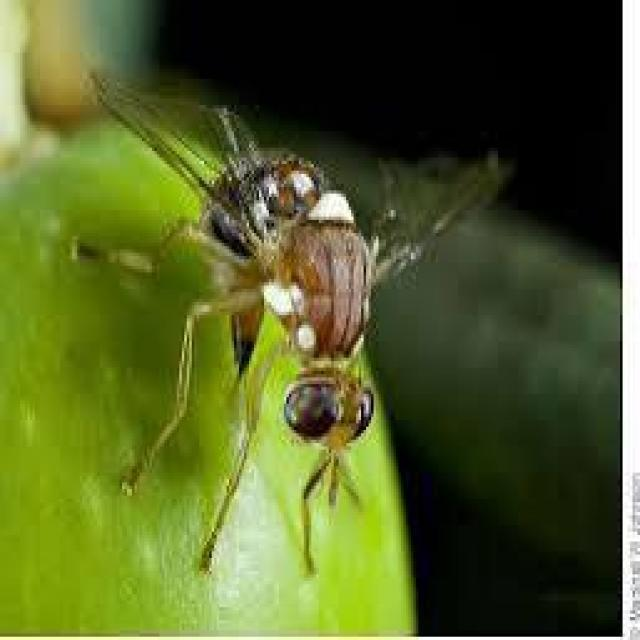Anthracnose: (90, 72, 510, 571)
